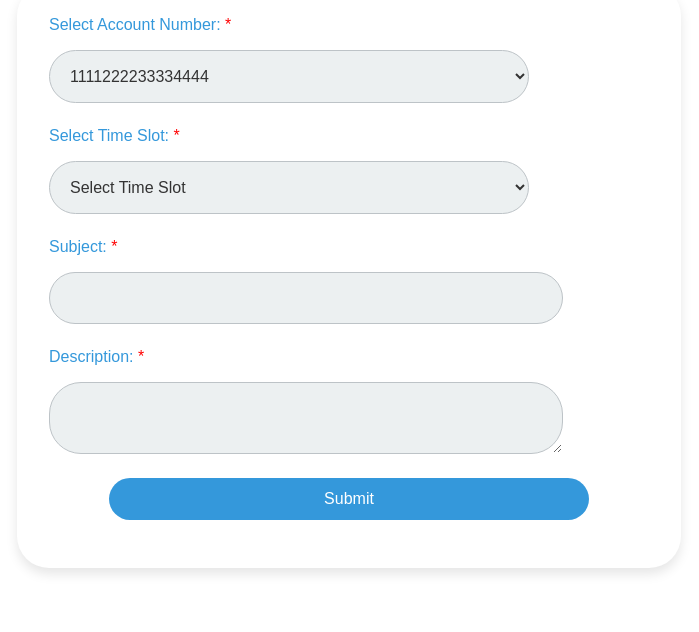
Test: CustomerScheduleCall Component › displays an error message when submission fails
Select "1111222233334444" in the dropdown labelled "Select Account Number: *" at (289, 76), box top-left (49, 50), bottom-right (529, 103)
Select "Morning(9am-12pm)" in the dropdown labelled "Select Time Slot: *" at (289, 188), box top-left (49, 161), bottom-right (529, 214)
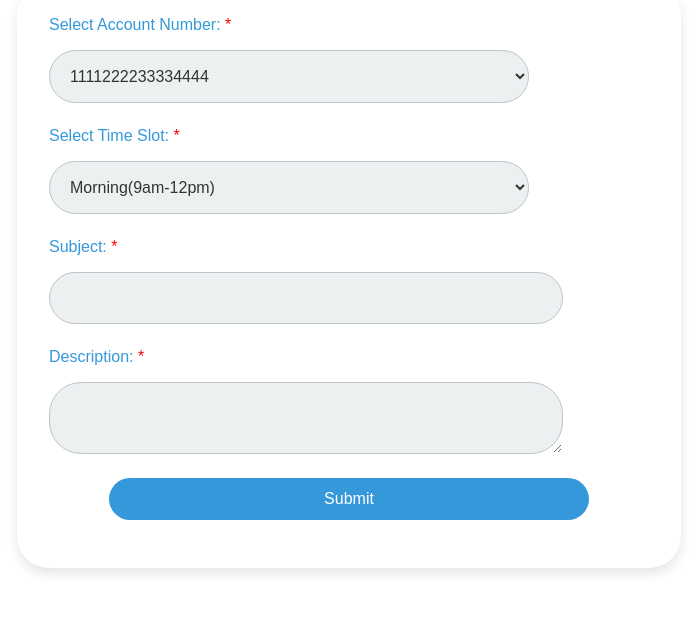
Type "Schedule a call" into the field labelled "Subject: *" at (306, 298), box top-left (49, 272), bottom-right (563, 324)
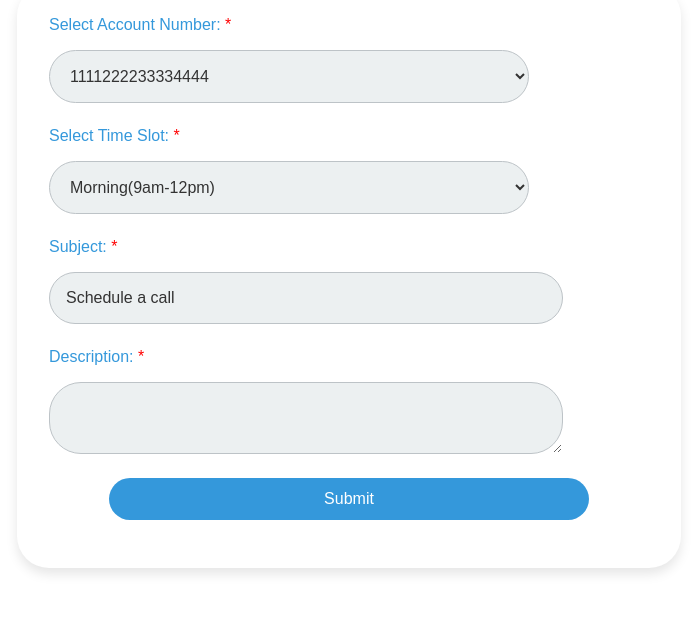
Type "I want to schedule a call." into the text box labelled "Description: *" at (306, 418), box top-left (49, 382), bottom-right (563, 454)
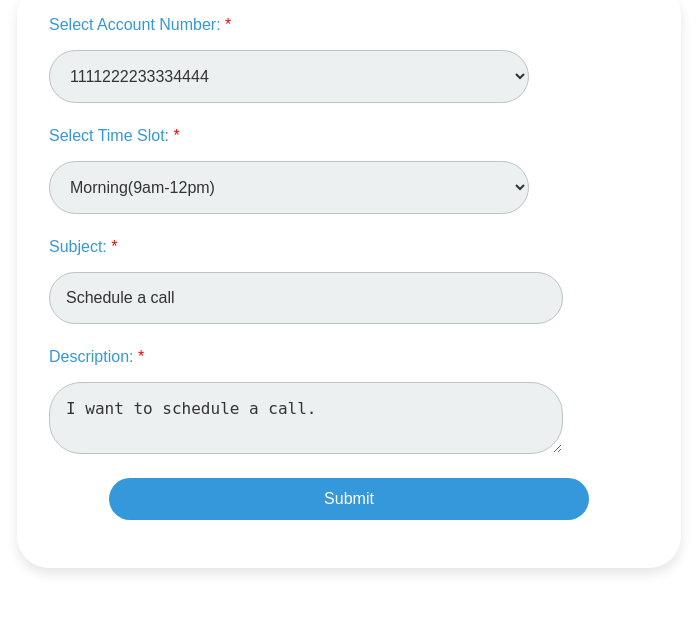
Click the button "Submit" at (349, 499), box top-left (109, 478), bottom-right (589, 520)
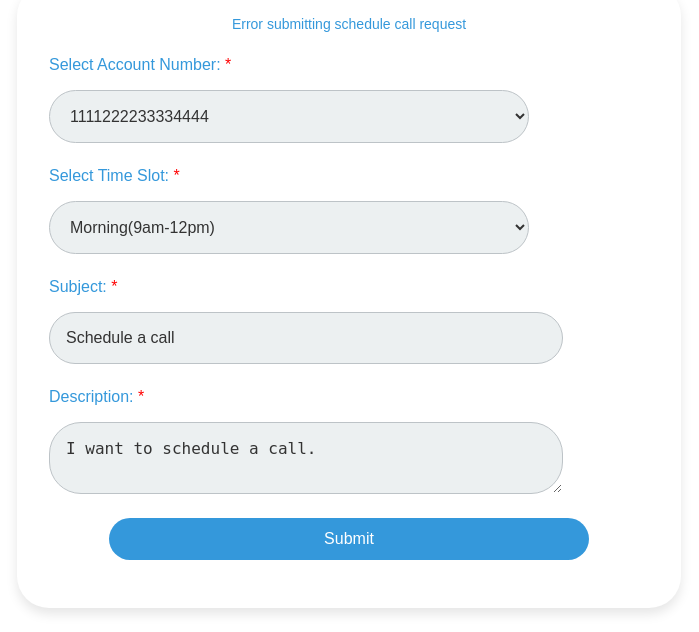
Expected: the text "Error submitting schedule call request" is shown, top-left (232, 16), bottom-right (466, 32)
